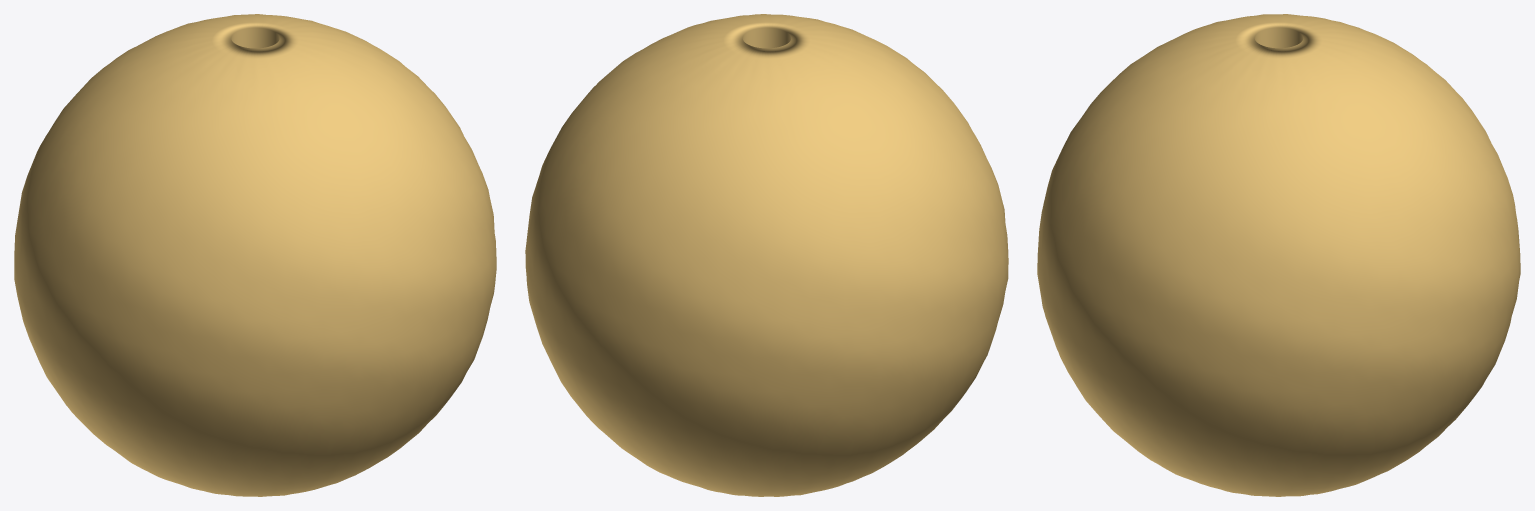
The model's file is spacer-02-gold-10mm.glb.
3 views of the same model, side by side, from view 1: azimuth 30°, elevation 25°; view 2: azimuth 150°, elevation 25°; view 3: azimuth 270°, elevation 25° (orthographic).
Parts seen in each view (by area): view 1: Spacer with through bore.002; view 2: Spacer with through bore.002; view 3: Spacer with through bore.002.
Part boxes in pixels (<box>): Spacer with through bore.002: <box>14,14,496,496</box>; Spacer with through bore.002: <box>525,14,1008,496</box>; Spacer with through bore.002: <box>1037,14,1520,496</box>.
Bounding box in the file's own units: 0.00998 × 0.00993 × 0.01.
